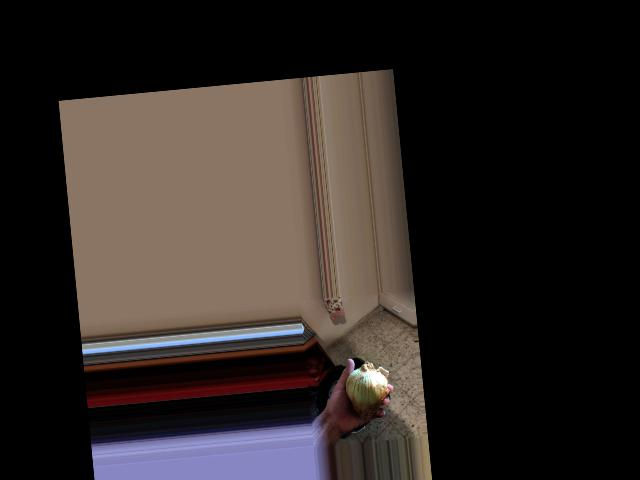onion: (342, 362, 389, 419)
